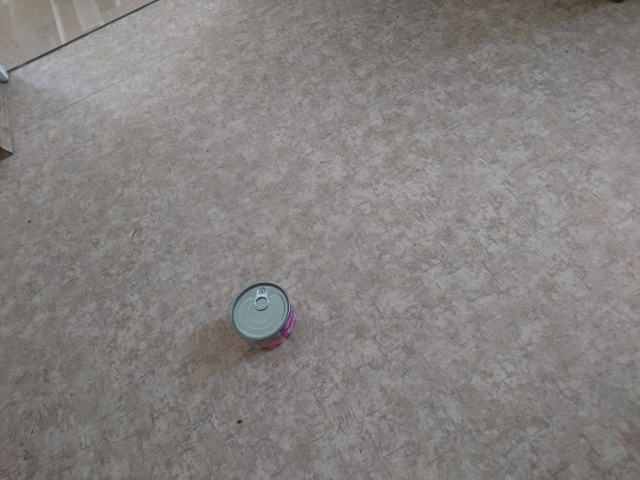Giana Tuna Salad Mexico 185g: (228, 280, 298, 352)
